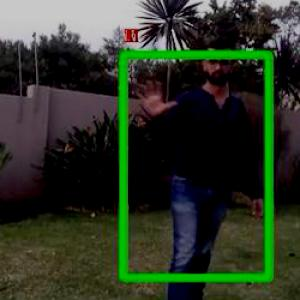follow_hand: (130, 72, 178, 119)
